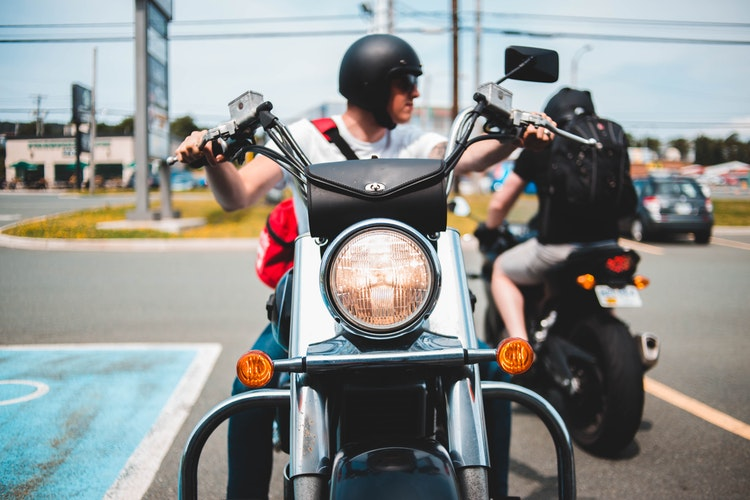helmet: (339, 33, 427, 92)
